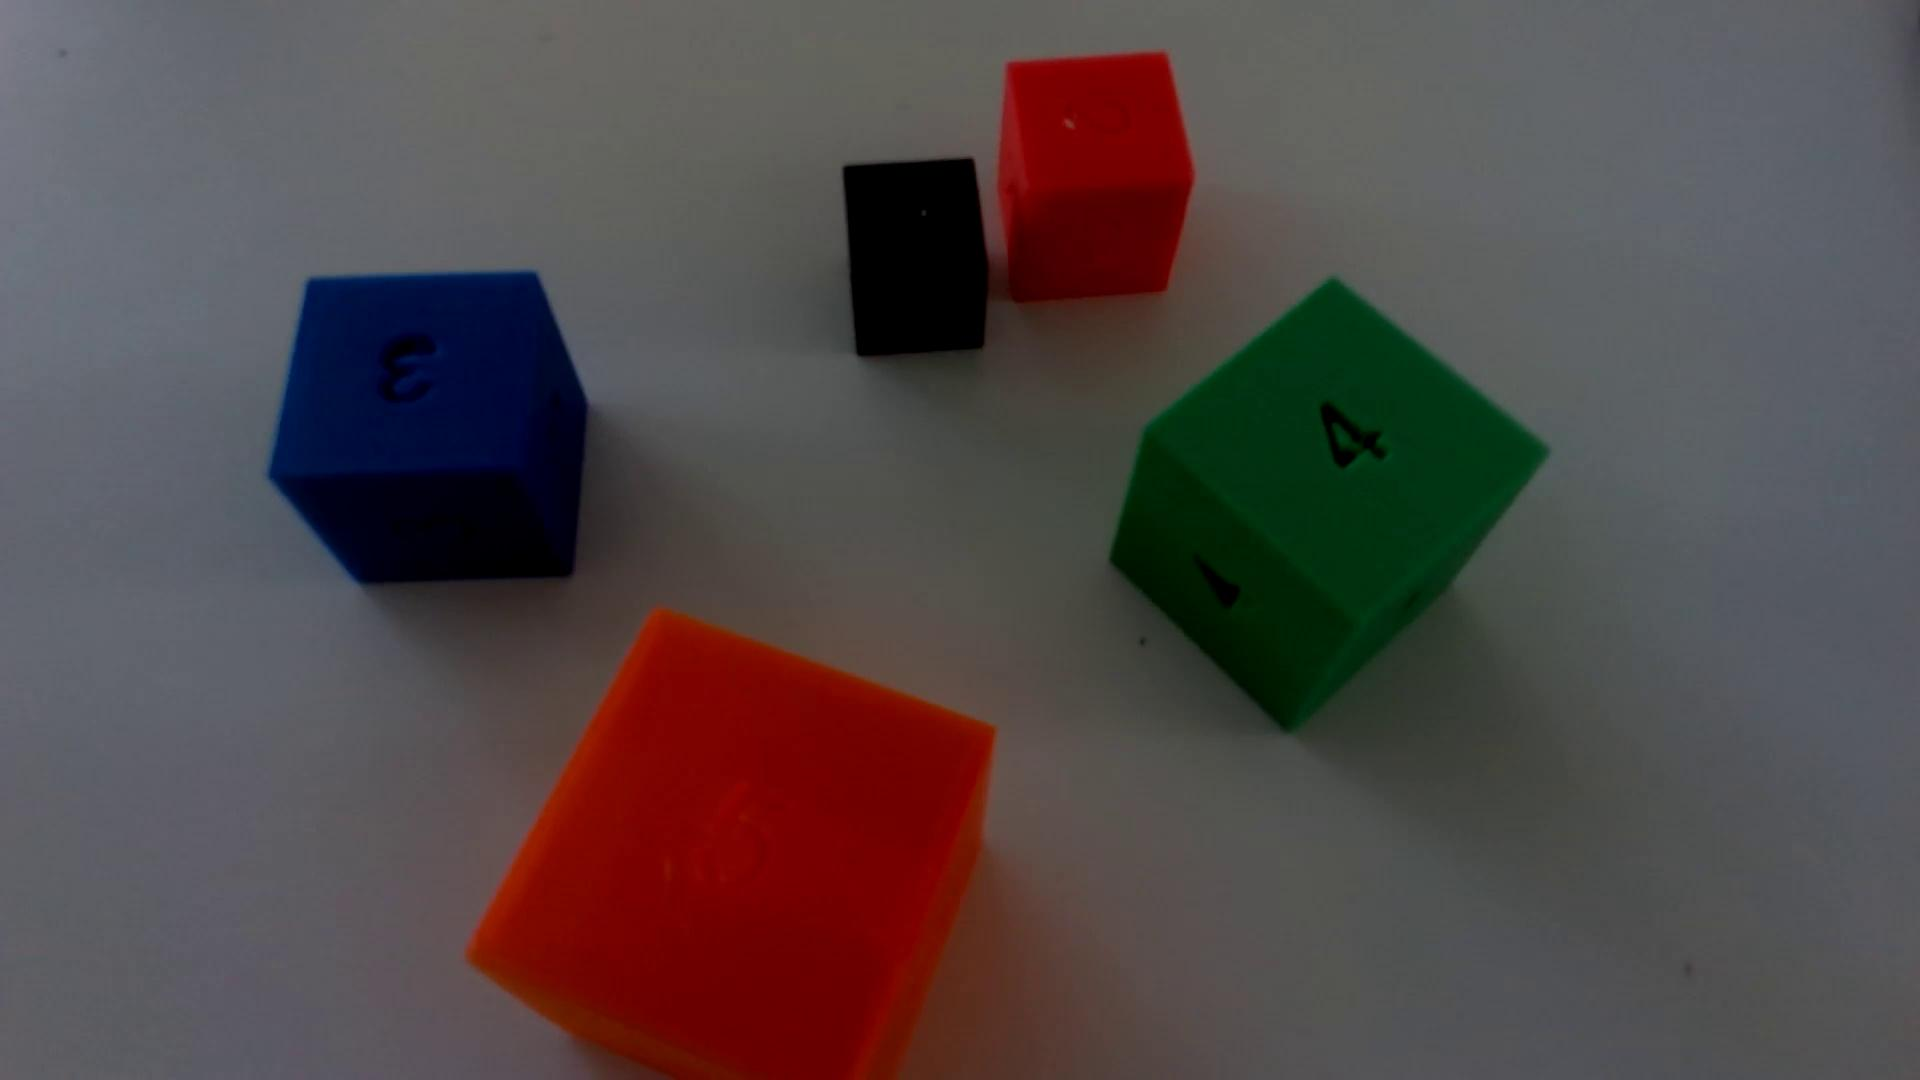black: (843, 160, 988, 357)
blue: (268, 273, 587, 585)
green: (1112, 281, 1547, 731)
orange: (468, 611, 993, 1080)
red: (997, 53, 1193, 302)
